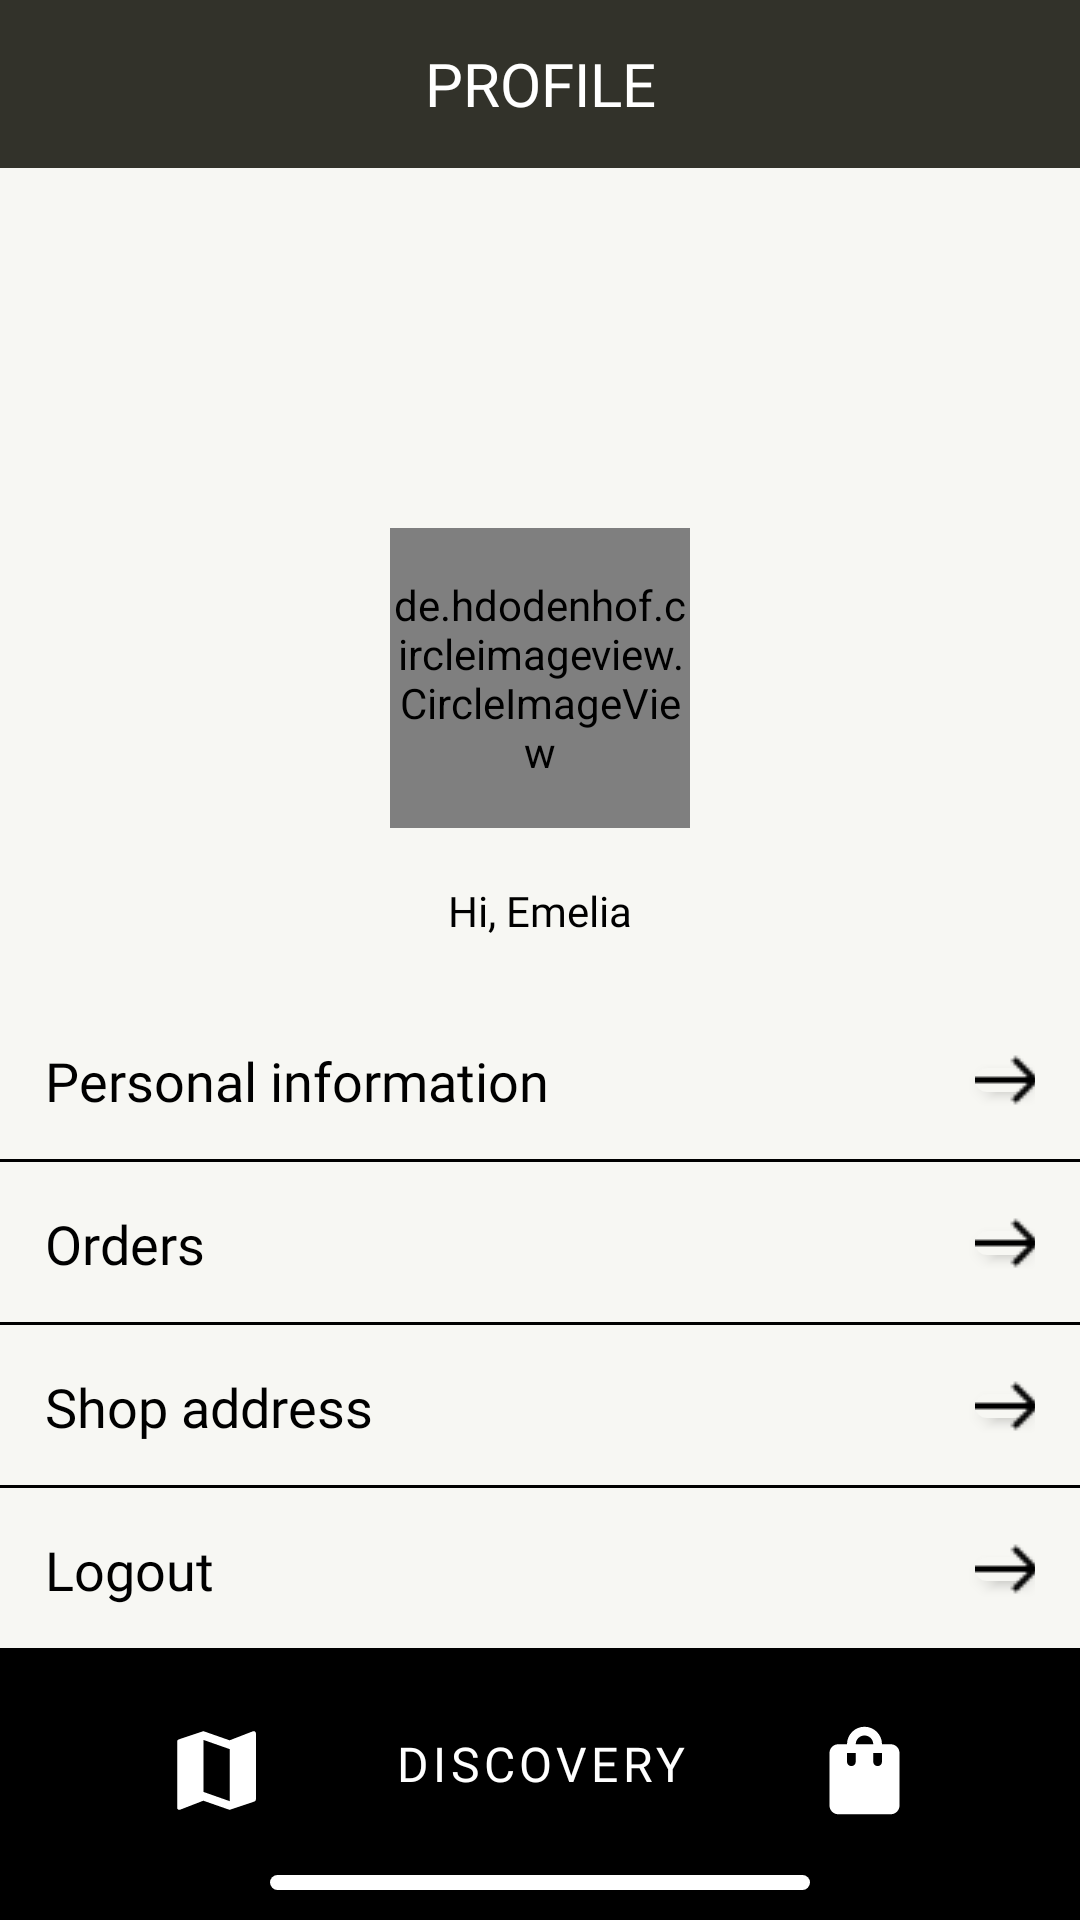

Icons on this 1080px×1920px Android screen, each with its box as {"x1": x1, "y1": y1, "x2": x2, "y2": y2}:
forward: {"x1": 975, "y1": 1055, "x2": 1035, "y2": 1105}, {"x1": 975, "y1": 1218, "x2": 1035, "y2": 1268}, {"x1": 975, "y1": 1381, "x2": 1035, "y2": 1431}, {"x1": 975, "y1": 1544, "x2": 1035, "y2": 1594}
map: {"x1": 177, "y1": 1731, "x2": 256, "y2": 1810}
shopping bag: {"x1": 829, "y1": 1726, "x2": 900, "y2": 1815}
